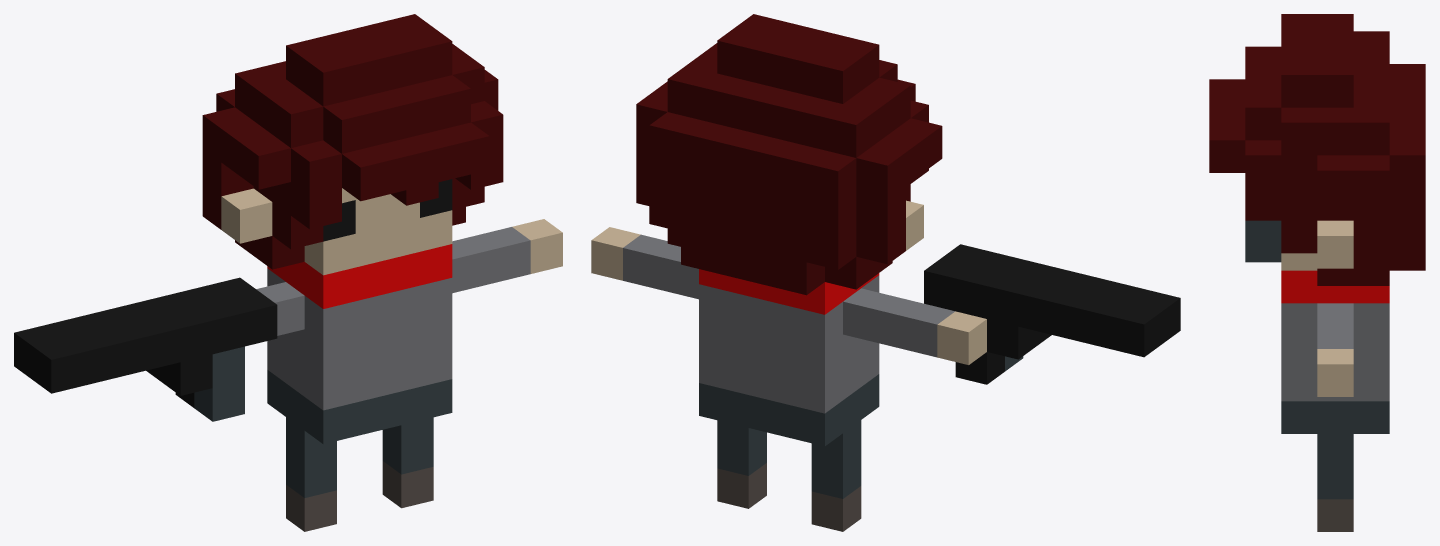
Rendered from PlayerAttack.obj.
3 renders of one model, left to right at view 1: azimuth 30°, elevation 25°; view 2: azimuth 150°, elevation 25°; view 3: azimuth 270°, elevation 25°, orthographic. The views are drawn at different scales.
Size of the model in its own units: 1.7 by 1.4 by 0.6.
1 material, 1 textured.
